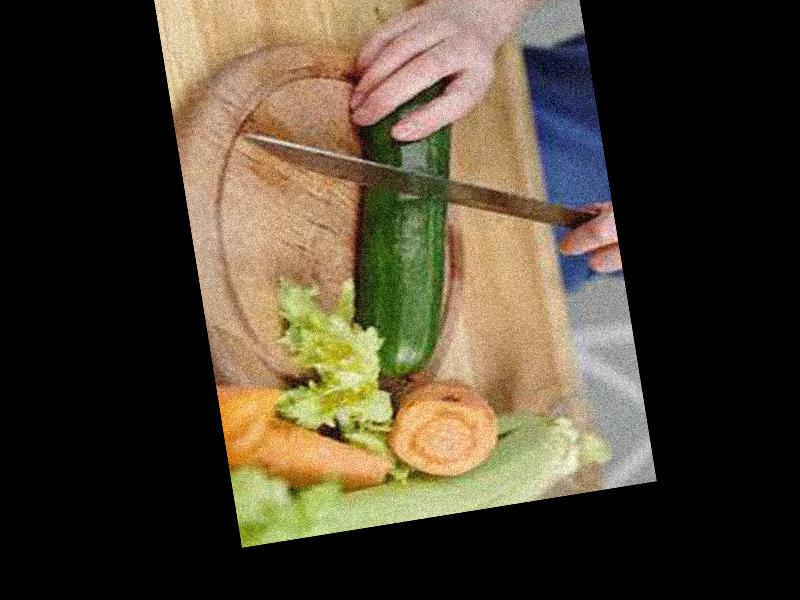Cucumber: (326, 79, 490, 383)
